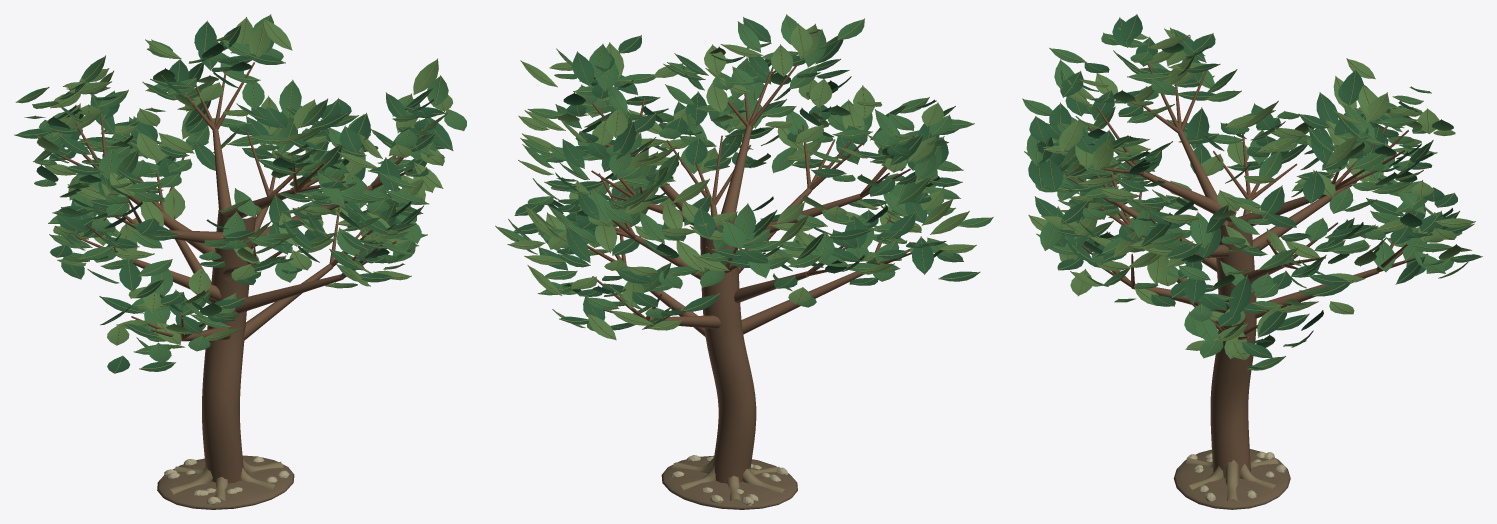
The model's file is shade-tree.glb.
The picture shows the model from 3 angles, left to right: view 1: azimuth 30°, elevation 25°; view 2: azimuth 150°, elevation 25°; view 3: azimuth 270°, elevation 25°; orthographic projection.
Visible parts, largest first — view 1: shade-tree-leaf, shade-tree-bark, shade-tree-stone; view 2: shade-tree-leaf, shade-tree-bark, shade-tree-stone; view 3: shade-tree-leaf, shade-tree-bark, shade-tree-stone.
Part boxes in pixels (left/top/right/bottom): shade-tree-leaf: left=14, top=14, right=466, bottom=373; shade-tree-bark: left=56, top=62, right=426, bottom=501; shade-tree-stone: left=157, top=455, right=294, bottom=509; shade-tree-leaf: left=495, top=14, right=993, bottom=340; shade-tree-bark: left=587, top=64, right=914, bottom=500; shade-tree-stone: left=661, top=455, right=797, bottom=509; shade-tree-leaf: left=1022, top=14, right=1482, bottom=370; shade-tree-bark: left=1067, top=63, right=1428, bottom=501; shade-tree-stone: left=1173, top=449, right=1290, bottom=509.
Bounding box in the file's own units: 5.15 × 5.13 × 5.12.
